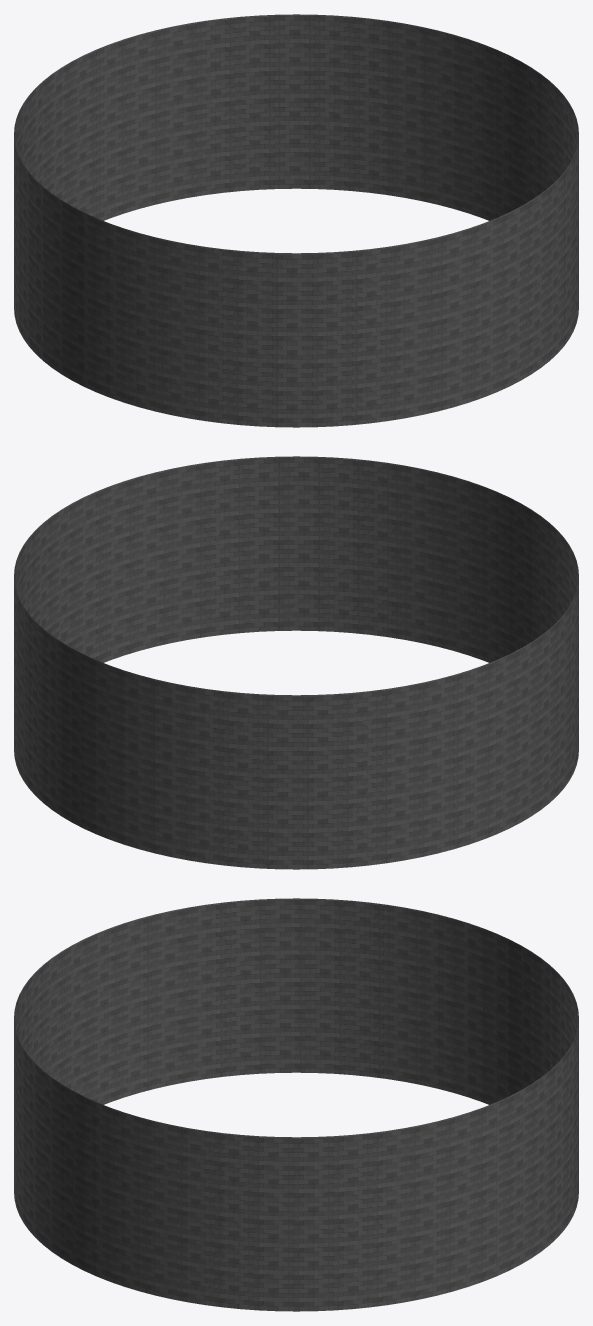
File: chamber_wall.glb
3 renders of one model, top to bottom at view 1: azimuth 30°, elevation 25°; view 2: azimuth 150°, elevation 25°; view 3: azimuth 270°, elevation 25°, orthographic.
Visible parts, largest first — view 1: wall; view 2: wall; view 3: wall.
Boxes of the visible parts, bbox=[...] form: wall: bbox=[14, 14, 578, 427]; wall: bbox=[14, 456, 578, 869]; wall: bbox=[14, 898, 578, 1311].
Bounding box in the file's own units: 56.4 × 19.2 × 56.4.
Materials: 1 (1 with a texture image).
